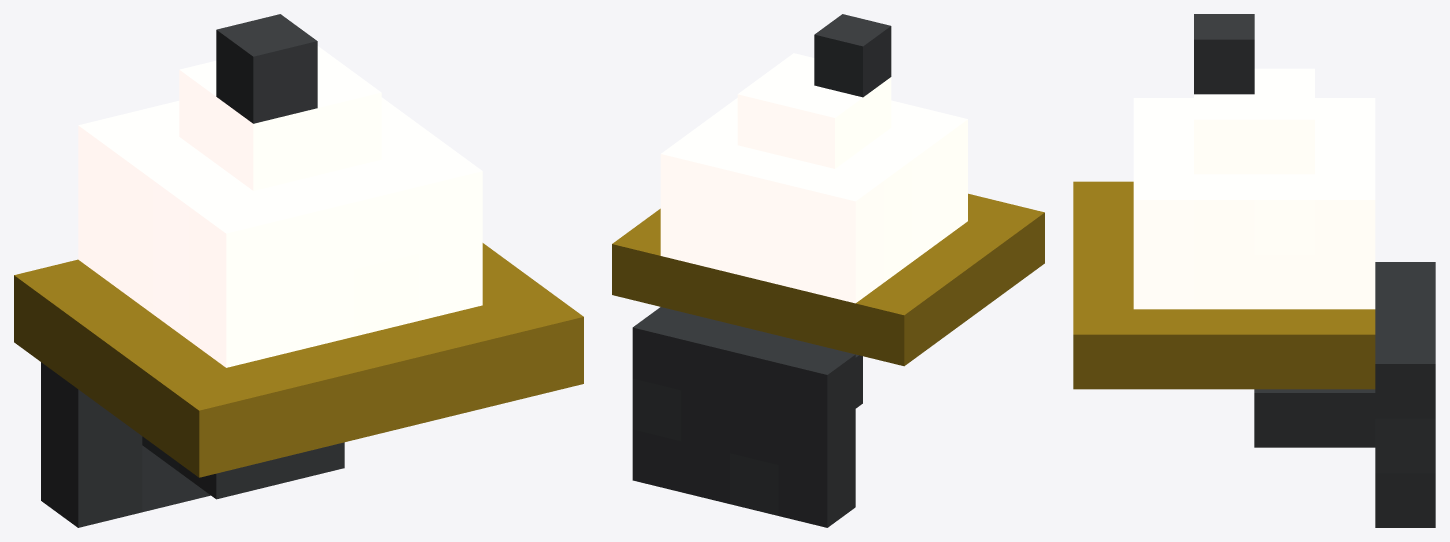
The model's file is gyrophare.glb.
The picture shows the model from 3 angles, left to right: view 1: azimuth 30°, elevation 25°; view 2: azimuth 150°, elevation 25°; view 3: azimuth 270°, elevation 25°; orthographic projection. The views are drawn at different scales.
Visible parts, largest first — view 1: voxel__gyrophare__ns; view 2: voxel__gyrophare__ns; view 3: voxel__gyrophare__ns.
Boxes of the visible parts, left/top/right/bottom form: voxel__gyrophare__ns: left=14, top=14, right=583, bottom=527; voxel__gyrophare__ns: left=612, top=14, right=1044, bottom=527; voxel__gyrophare__ns: left=1073, top=14, right=1435, bottom=527.
Bounding box in the file's own units: 0.3 × 0.4 × 0.3.
